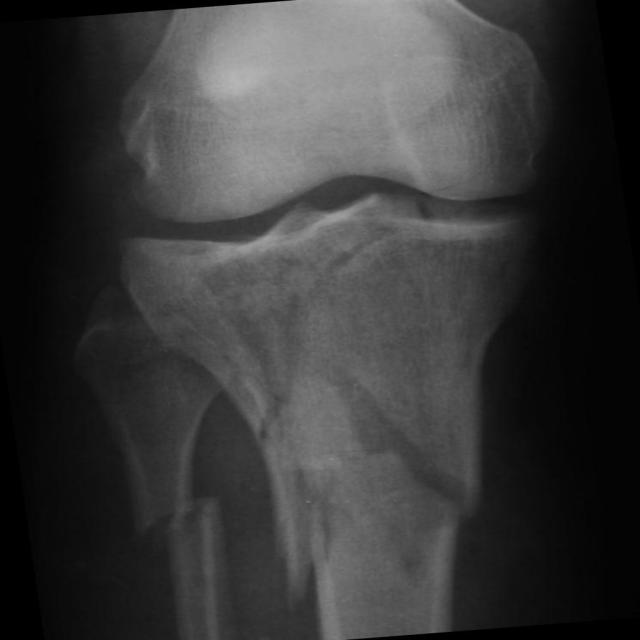Oblique Displaced: (261, 373, 504, 629)
Transverse Displaced: (101, 470, 239, 570)
